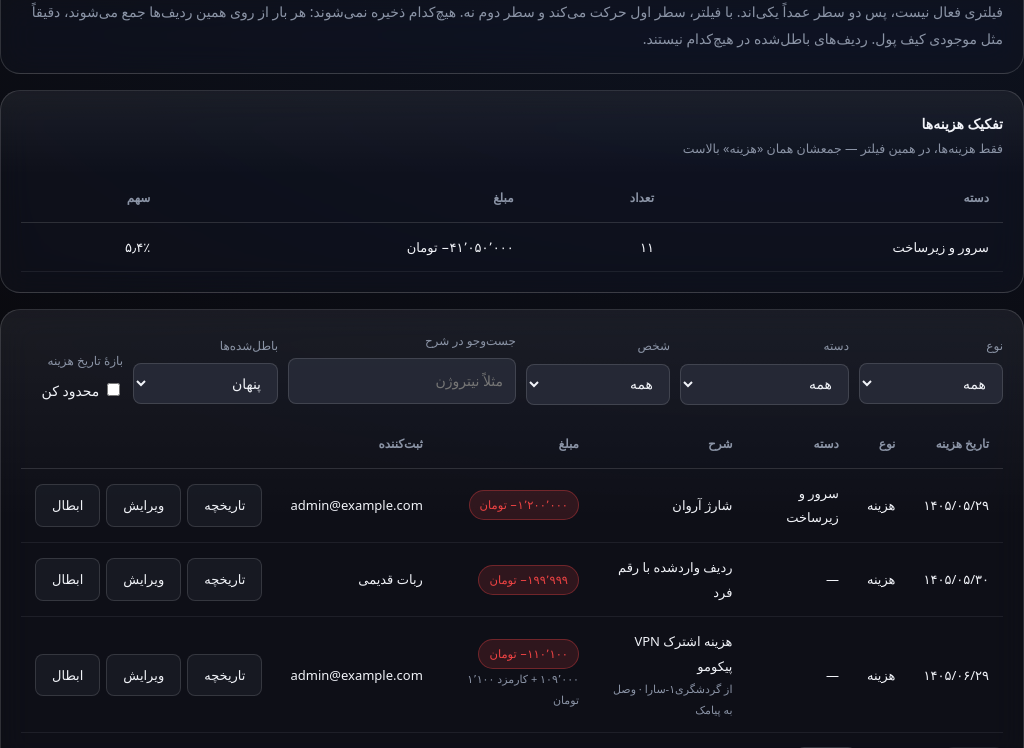
Test: where the totals come from › changes that sentence the moment a filter is on
(page scrolled)
expect the text "شارژ آروان" is shown: met, box [593,468,746,542]
Select "هزینه" in the dropdown labelled "نوع" at (931, 384), box [859,364,1003,405]
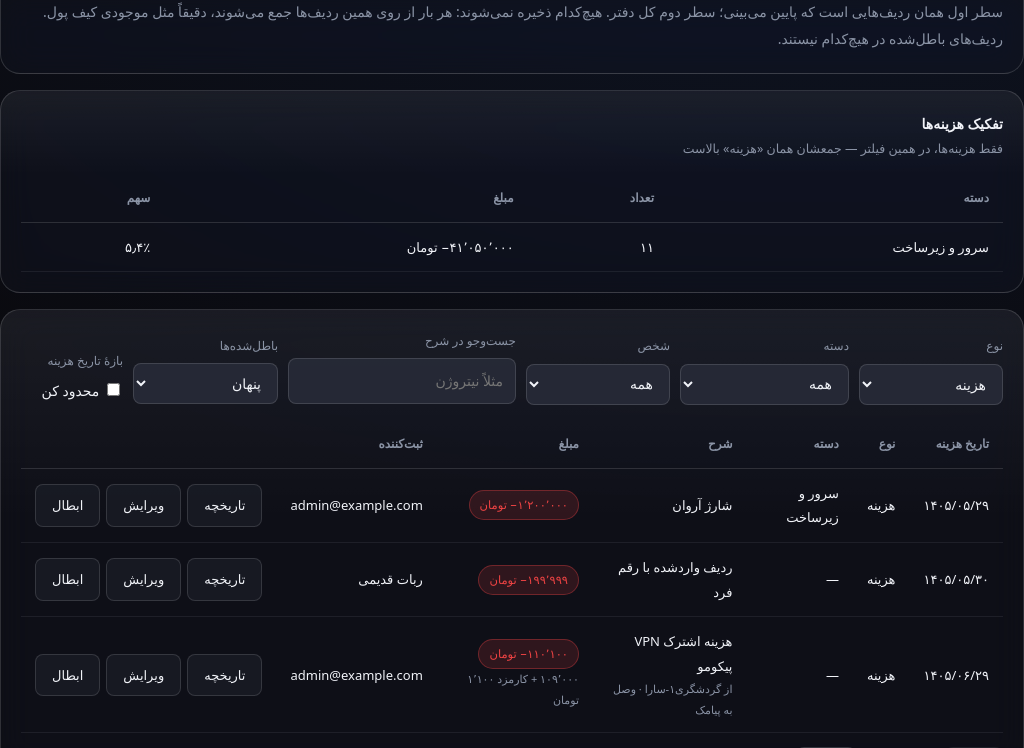
expect the text "سطر اول همان ردیف‌هایی است که پایین می‌بینی" is shown: met, box [606,2,1003,21]
